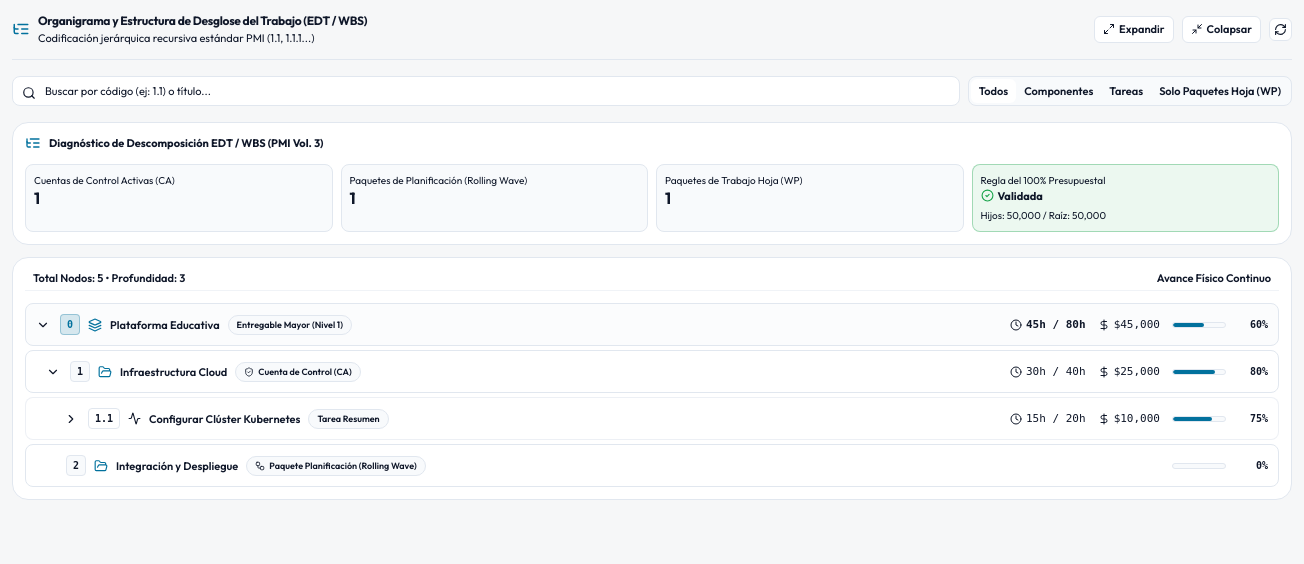
Test: ProjectWBSTreeView Component › muestra el diagnóstico PMI, la Regla del 100% y los roles de cada nodo
Expected: the element labelled "Diagnóstico de Descomposición EDT / WBS (PMI Vol. 3)" is shown, [12,122,1292,245]
Click the button "Expandir".
click(1134, 29)  # box [1094,16,1174,42]
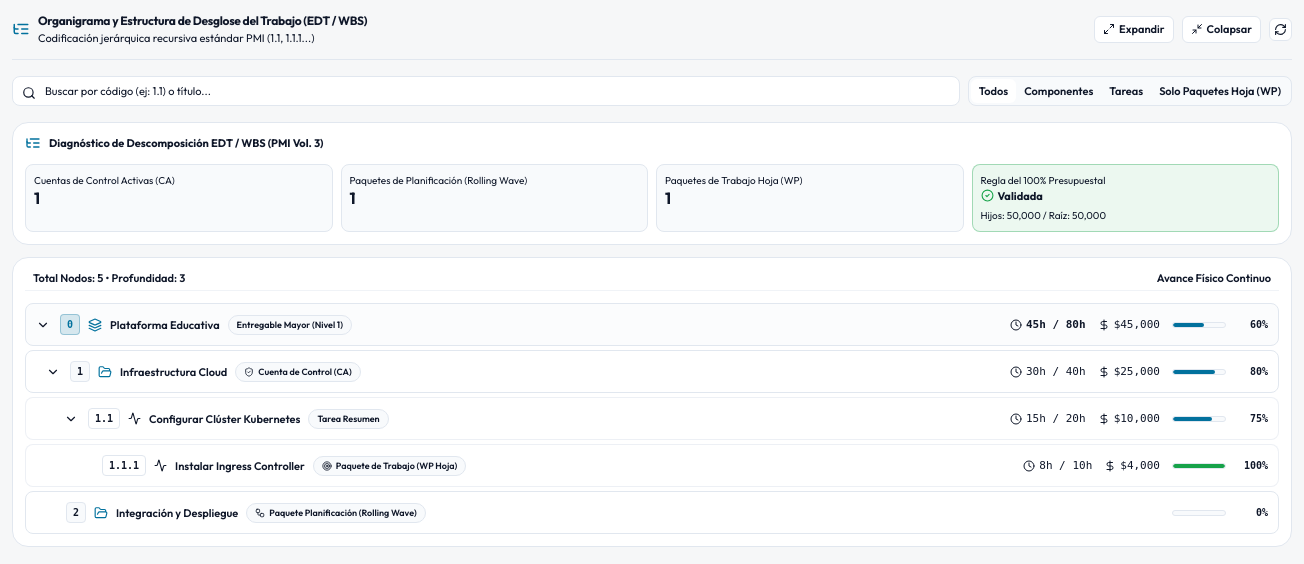
Expected: the text "1" below "Paquetes de Trabajo Hoja (WP)" is shown, [665,188,671,208]
Expected: the text "Paquete de Trabajo (WP Hoja)" is shown, [313,456,466,476]
